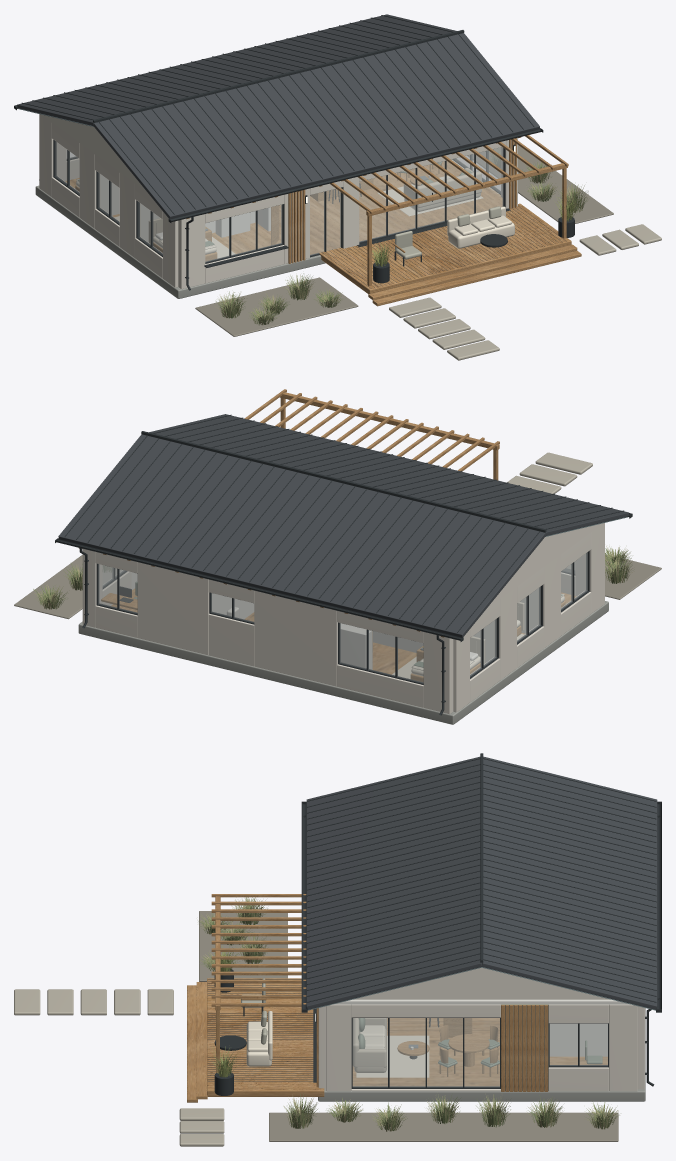
The model's file is stroyka-polished.glb.
3 views of the same model, one above another, from view 1: azimuth 30°, elevation 25°; view 2: azimuth 150°, elevation 25°; view 3: azimuth 270°, elevation 25° (orthographic). The views are drawn at different scales.
Visible parts, largest first — view 1: detail / 05_roof / roof, detail / 05_roof / anthracite, south facade / 03_walls / glass, detail / 06_facade / oak, detail / 03_walls / warm plaster, south facade / 03_walls / warm plaster, detail / 17_site / garden gravel, detail / 07_interior / light oak, pergola / 06_facade / oak, detail / 17_site / limestone paving, detail / 06_facade / anthracite, detail / 06_facade / light oak (+17 smaller); view 2: detail / 05_roof / roof, detail / 03_walls / warm plaster, detail / 05_roof / anthracite, detail / 03_walls / glass, foundation slab, pergola / 06_facade / oak, detail / 17_site / garden gravel, detail / 03_walls / anthracite, detail / 03_walls / white, detail / 17_site / limestone paving, detail / 05_roof / warm plaster, detail / 07_interior / white (+9 smaller); view 3: detail / 05_roof / roof, detail / 05_roof / anthracite, east facade / 03_walls / glass, detail / 17_site / garden gravel, east facade / 03_walls / warm plaster, detail / 06_facade / oak, pergola / 06_facade / oak, detail / 17_site / limestone paving, detail / 07_interior / light oak, detail / 05_roof / warm plaster, detail / 12_cladding / oak, detail / 06_facade / anthracite (+17 smaller).
Part boxes in pixels (x1,y1,x2,y2): detail / 05_roof / roof: (17, 14, 539, 219); detail / 05_roof / anthracite: (14, 15, 543, 222); south facade / 03_walls / glass: (205, 147, 503, 261); detail / 06_facade / oak: (288, 138, 571, 294); detail / 03_walls / warm plaster: (39, 114, 178, 287); south facade / 03_walls / warm plaster: (178, 137, 517, 289); detail / 17_site / garden gravel: (195, 145, 613, 336); detail / 07_interior / light oak: (65, 161, 502, 254); pergola / 06_facade / oak: (330, 135, 568, 286); detail / 17_site / limestone paving: (389, 224, 661, 360); detail / 06_facade / anthracite: (185, 144, 574, 290); detail / 06_facade / light oak: (368, 244, 581, 306); detail / 05_roof / roof: (58, 414, 628, 637); detail / 03_walls / warm plaster: (82, 523, 604, 714); detail / 05_roof / anthracite: (55, 414, 632, 641); detail / 03_walls / glass: (98, 552, 587, 682); foundation slab: (78, 601, 608, 724); pergola / 06_facade / oak: (244, 389, 499, 480); detail / 17_site / garden gravel: (14, 554, 661, 619); detail / 03_walls / anthracite: (96, 551, 589, 684); detail / 03_walls / white: (212, 589, 537, 662); detail / 17_site / limestone paving: (507, 452, 592, 493); detail / 05_roof / warm plaster: (487, 523, 603, 608); detail / 07_interior / white: (340, 623, 478, 669); detail / 05_roof / roof: (306, 756, 657, 1009); detail / 05_roof / anthracite: (301, 753, 661, 1012); east facade / 03_walls / glass: (352, 1018, 607, 1086); detail / 17_site / garden gravel: (199, 911, 618, 1141); east facade / 03_walls / warm plaster: (326, 1004, 637, 1091); detail / 06_facade / oak: (207, 978, 324, 1096); pergola / 06_facade / oak: (211, 894, 306, 1072); detail / 17_site / limestone paving: (14, 989, 224, 1146); detail / 07_interior / light oak: (352, 1018, 607, 1086); detail / 05_roof / warm plaster: (353, 967, 610, 999); detail / 12_cladding / oak: (501, 1005, 548, 1091); detail / 06_facade / anthracite: (208, 815, 660, 1095).
Bounding box in the file's own units: 18.22 × 5.2 × 20.38.
Materials: 27 (2 with a texture image).
